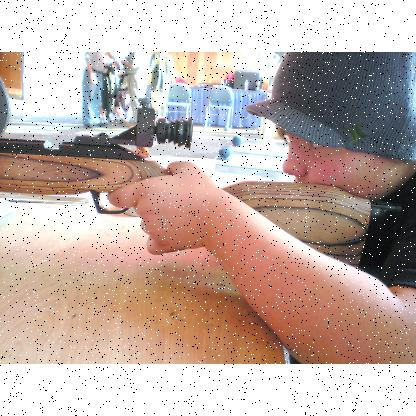gun: (0, 99, 403, 268)
